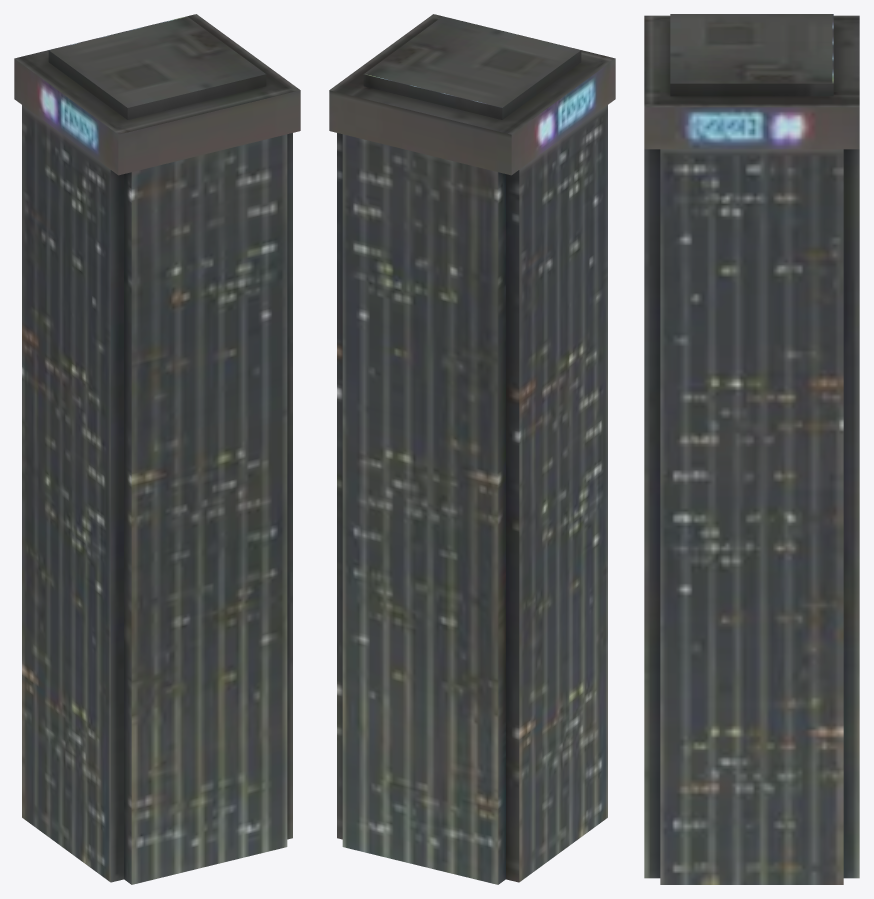
The model's file is Cube.001_Background_Night_Buildings_0.009.glb.
3 renders of one model, left to right at view 1: azimuth 30°, elevation 25°; view 2: azimuth 150°, elevation 25°; view 3: azimuth 270°, elevation 25°, orthographic. The views are drawn at different scales.
Visible parts, largest first — view 1: Cube.001_Background_Night_Buildings_0.009; view 2: Cube.001_Background_Night_Buildings_0.009; view 3: Cube.001_Background_Night_Buildings_0.009.
Boxes of the visible parts, bbox=[...] form: Cube.001_Background_Night_Buildings_0.009: bbox=[14, 14, 300, 884]; Cube.001_Background_Night_Buildings_0.009: bbox=[329, 14, 615, 884]; Cube.001_Background_Night_Buildings_0.009: bbox=[644, 14, 859, 884].
Size of the model in its own units: 17.5 by 70.28 by 17.33.
Materials: 1 (1 with a texture image).
